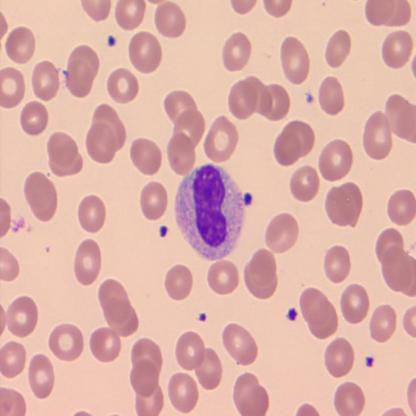Metamyelocyte: (174, 161, 246, 264)
